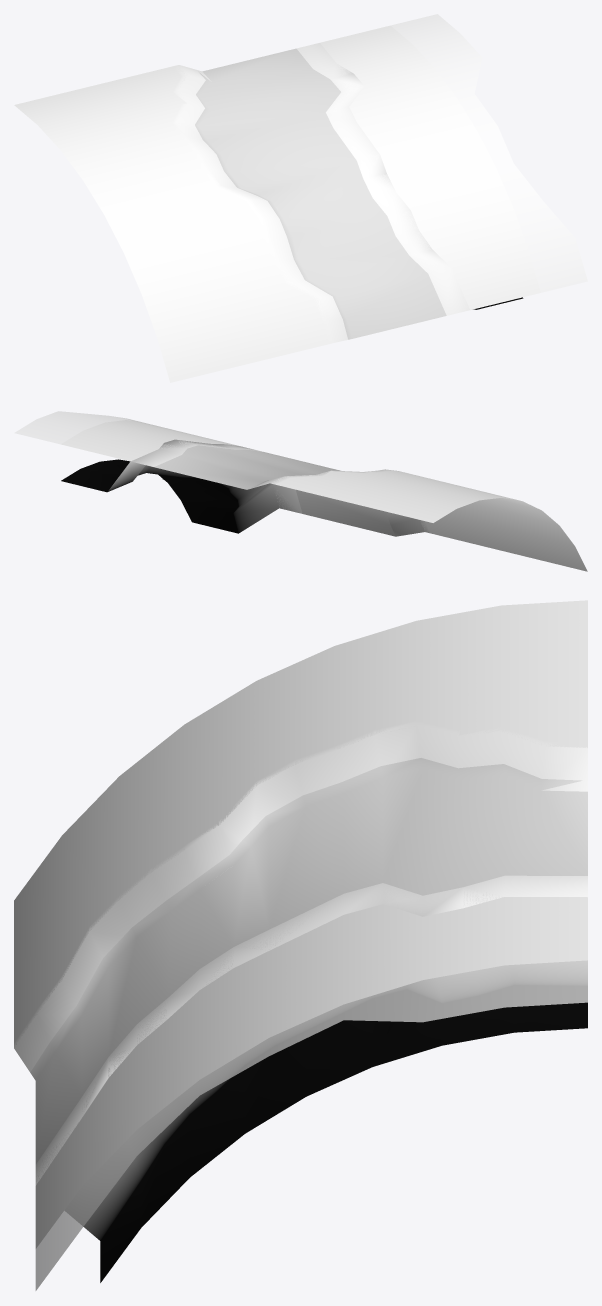
Rendered from grd_Ie_0.dae.
3 views of the same model, one above another, from view 1: azimuth 30°, elevation 25°; view 2: azimuth 150°, elevation 25°; view 3: azimuth 270°, elevation 25° (orthographic). The views are drawn at different scales.
Parts seen in each view (by area): view 1: grd_Ie_0; view 2: grd_Ie_0; view 3: grd_Ie_0.
Part boxes in pixels (box(x1,y1,x2,y2)): grd_Ie_0: box(14, 14, 587, 382); grd_Ie_0: box(14, 411, 587, 571); grd_Ie_0: box(14, 600, 587, 1290).
Size of the model in its own units: 576 by 244 by 368.
Materials: 6 (1 with a texture image).
